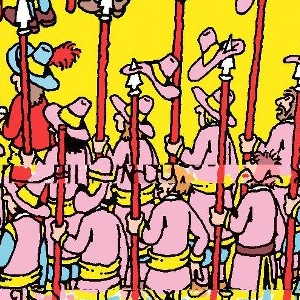Wenda: (142, 136, 158, 164)
